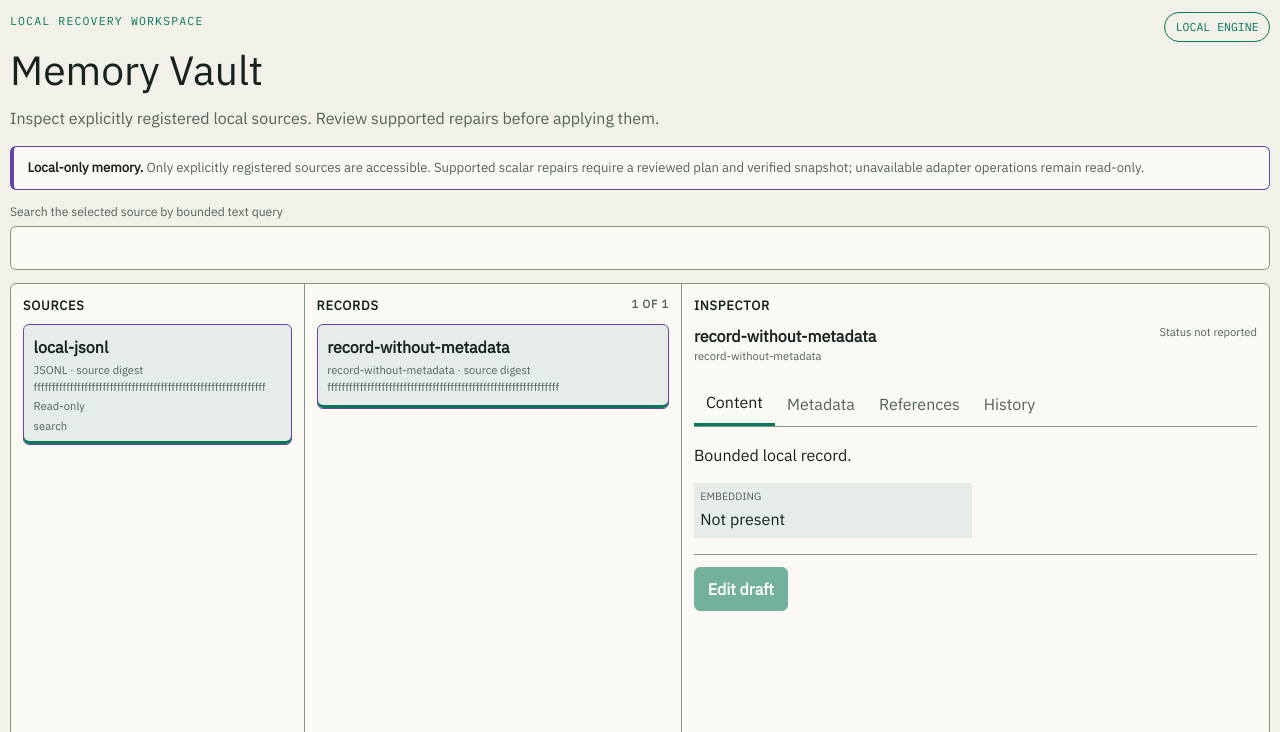
Scenario: Memory Vault interface › shows absent native record metadata and references as Not reported
This screenshot has width=1280, height=732.
Click the tab "Metadata": x=821, y=404 [775, 381, 867, 426]
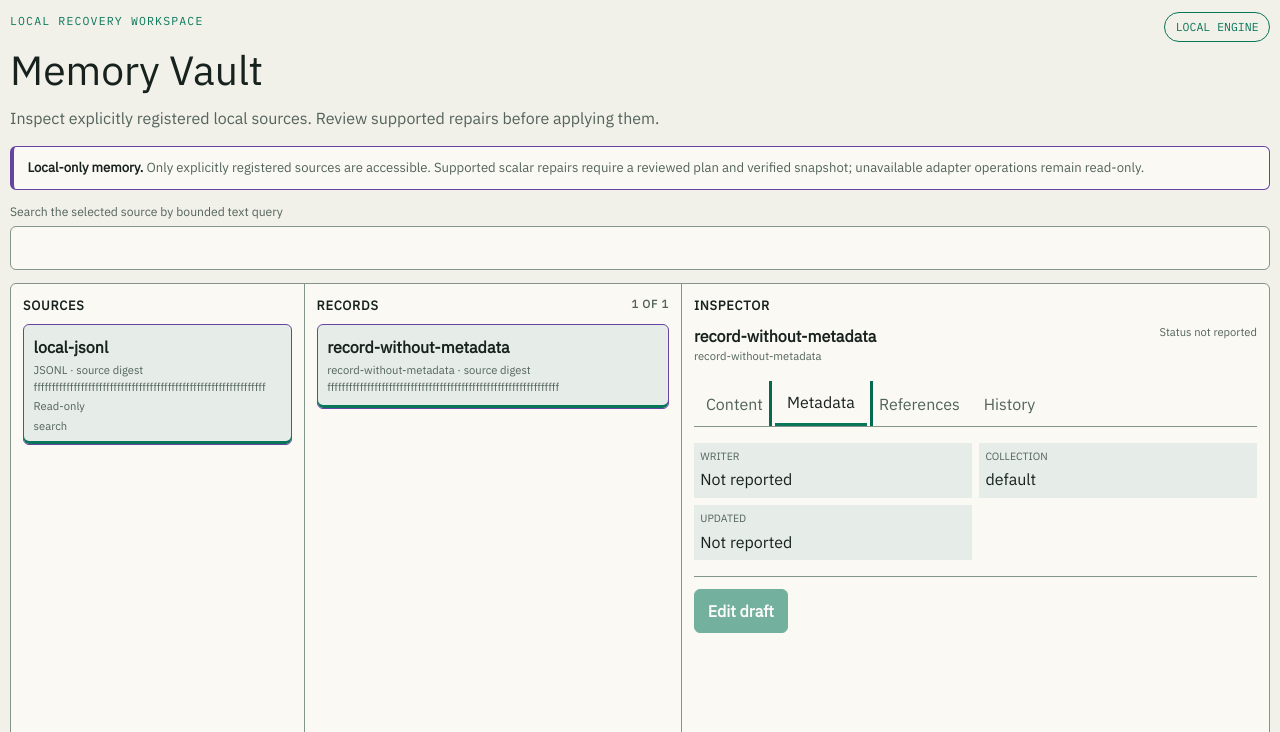
Check: the text "Not reported" is shown 2 times, box [700, 469, 792, 489]; [700, 532, 792, 552]
Click the tab "References": x=919, y=404 [867, 381, 972, 426]
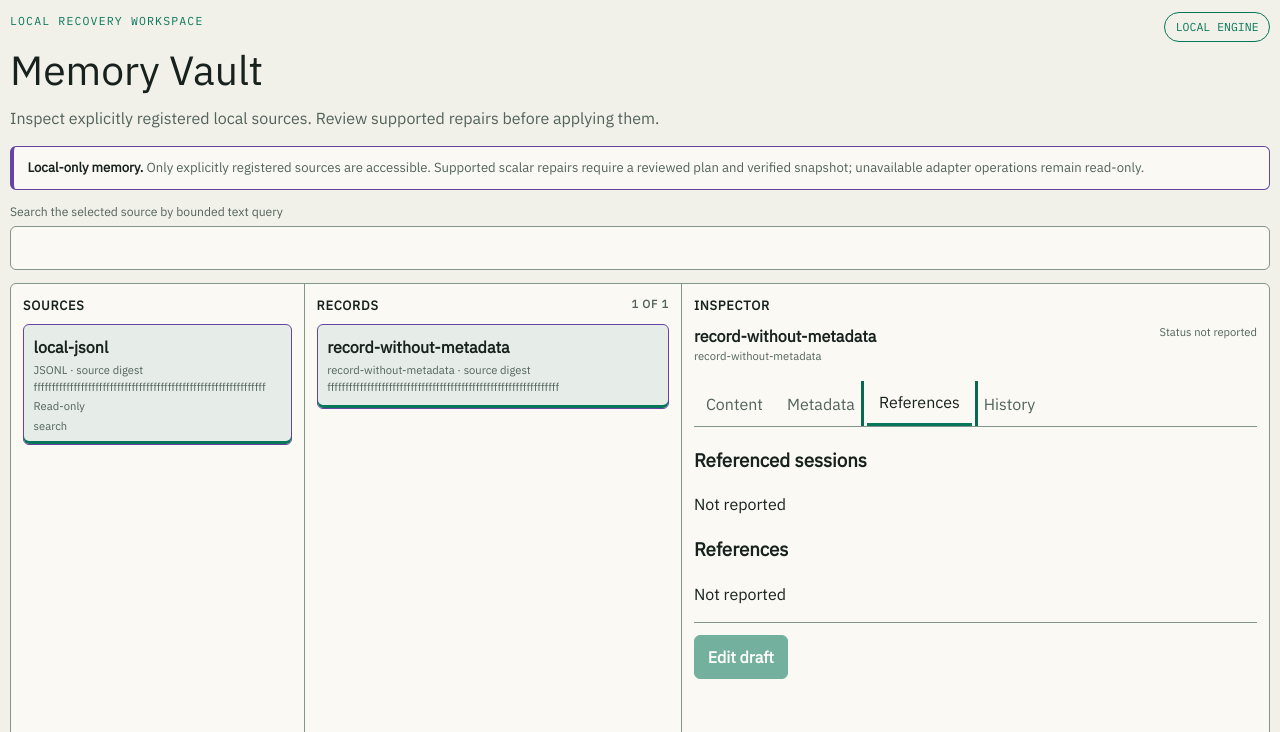
Check: the text "Not reported" is shown 2 times, box [694, 494, 786, 514]; [694, 584, 786, 604]
